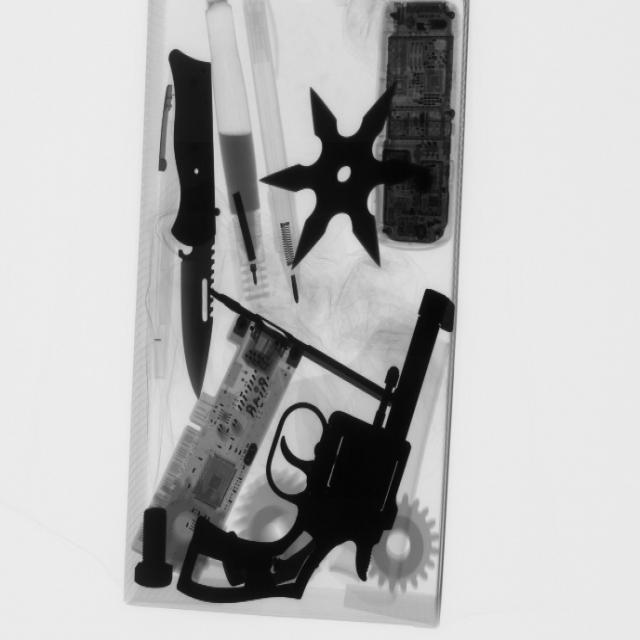GUN: (171, 283, 452, 613)
KNIFE: (158, 42, 233, 394)
SHURIKEN: (264, 79, 425, 269)
